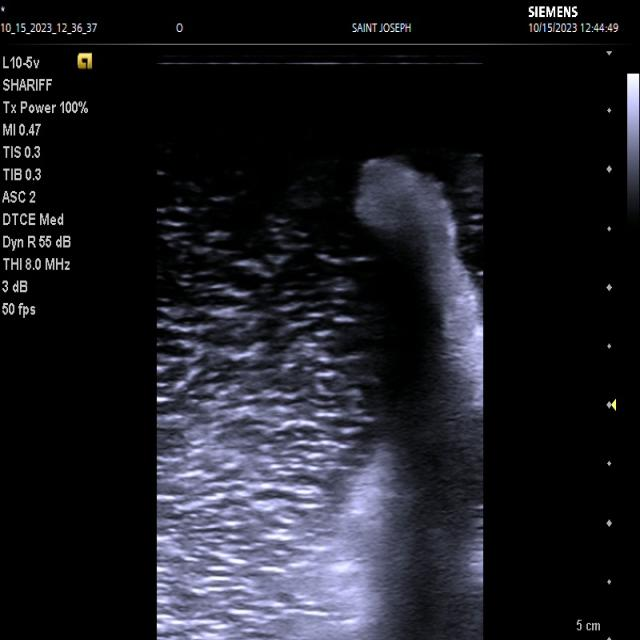tissue: (337, 159, 482, 640)
